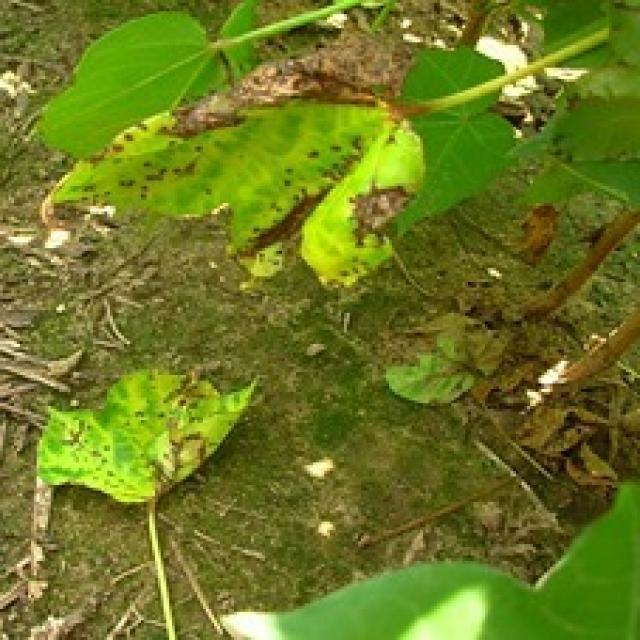Downy_Mildew: (92, 76, 263, 226), (113, 370, 208, 508), (344, 121, 422, 258)
